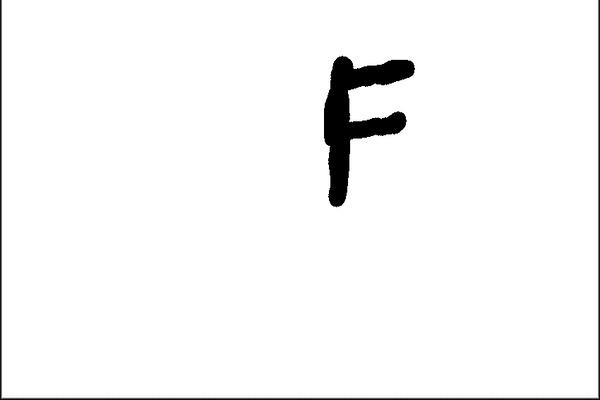F: (318, 48, 418, 212)
